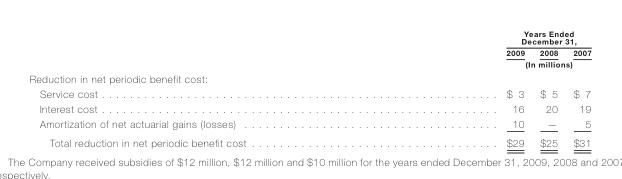table: (28, 28, 590, 148)
table column: (28, 28, 375, 148), (375, 28, 531, 148), (531, 28, 564, 148), (564, 28, 590, 148)
table column header: (28, 28, 590, 70)
table projected row header: (28, 70, 590, 85)
table row: (28, 28, 590, 46), (28, 116, 590, 133), (28, 100, 590, 116), (28, 70, 590, 85), (28, 85, 590, 100), (28, 133, 590, 148), (28, 57, 590, 70), (28, 46, 590, 57)
table spanning cell: (375, 28, 590, 46), (375, 57, 590, 70)
